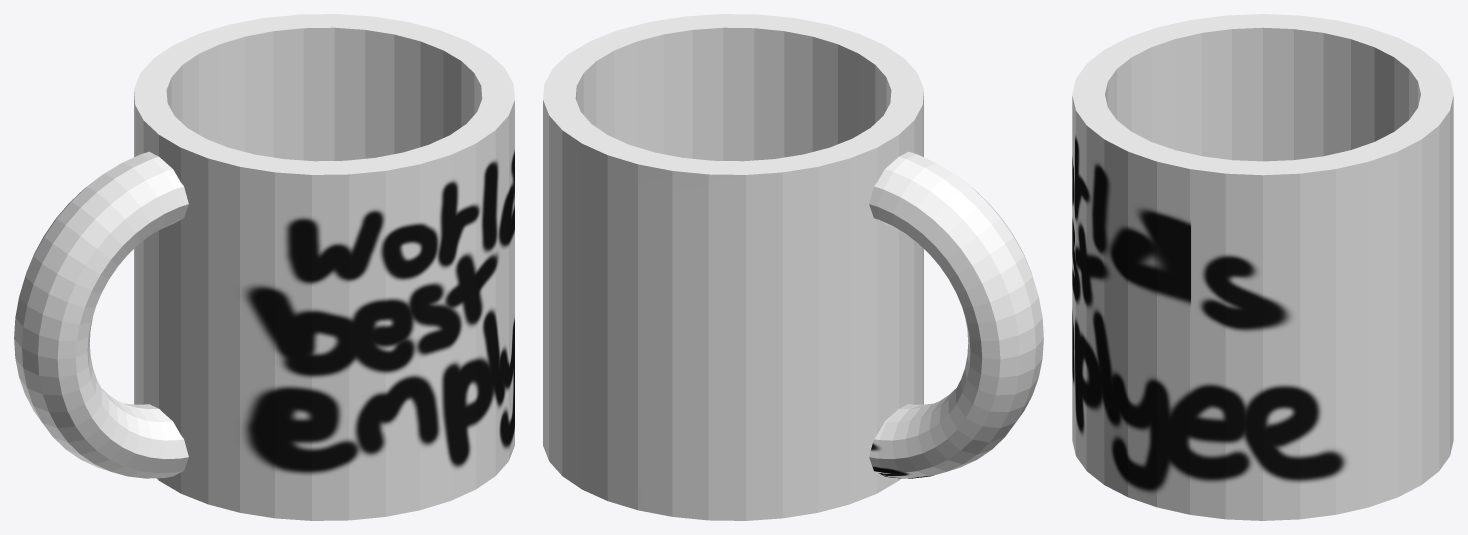
Rendered from Mug.glb.
3 views of the same model, side by side, from view 1: azimuth 30°, elevation 25°; view 2: azimuth 150°, elevation 25°; view 3: azimuth 270°, elevation 25° (orthographic).
Visible parts, largest first — view 1: Cylinder; view 2: Cylinder; view 3: Cylinder.
Boxes of the visible parts, x1,y1,x2,y2 form: Cylinder: (14,14,514,520); Cylinder: (543,14,1043,520); Cylinder: (1072,14,1453,520).
Size of the model in its own units: 2.83 by 2 by 2.
Materials: 1 (1 with a texture image).
